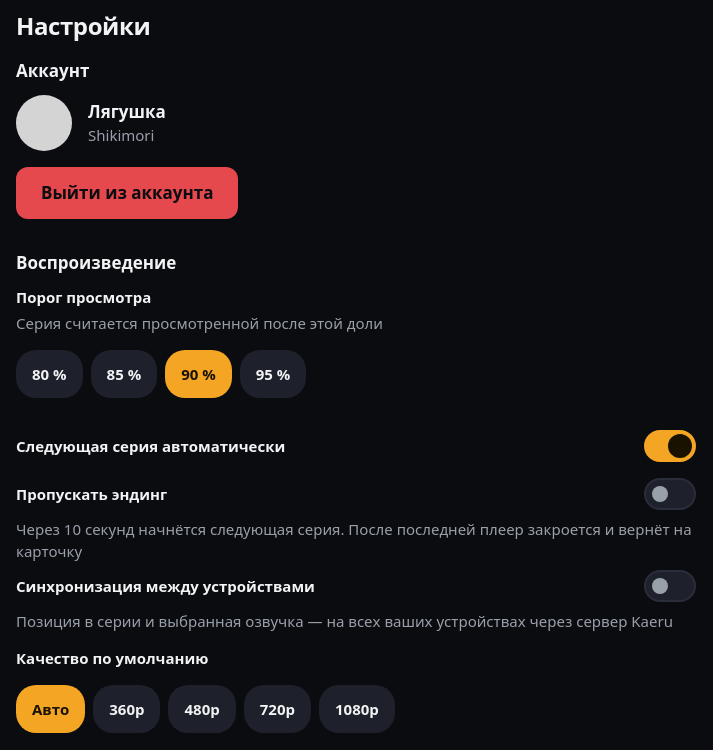
Scenario: SettingsScreen › offers the four thresholds as percentages and keeps the choice
This screenshot has width=713, height=750.
Expected: the radio button labelled "90 %" is checked, x1=165 y1=350 x2=232 y2=398
What coordinates should you click on to do the following:
click the radio button labelled "95 %"
I would click on:
 (273, 374)
Its box is x1=240 y1=350 x2=306 y2=398.
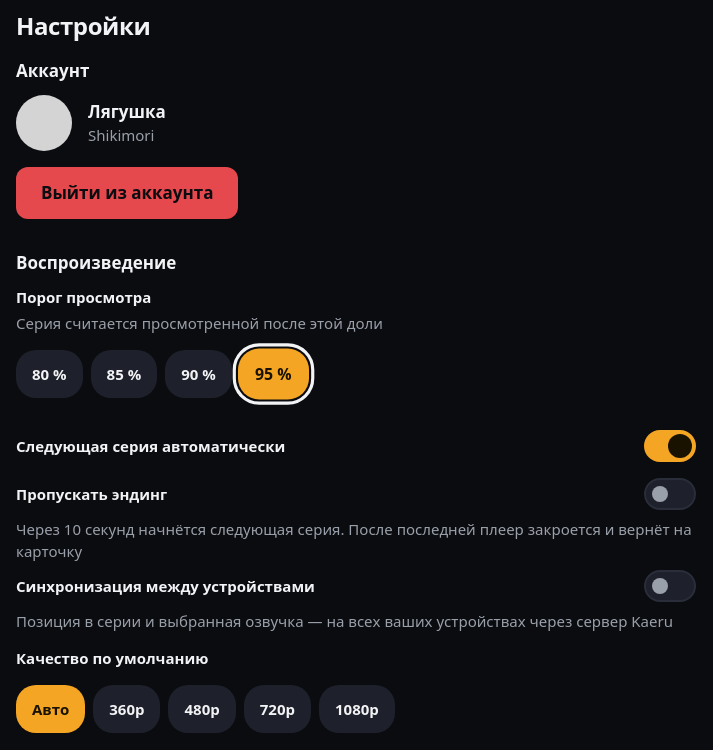
Expected: the radio button labelled "95 %" is checked, x1=238 y1=349 x2=308 y2=400
Expected: the radio button labelled "90 %" is not checked, x1=165 y1=350 x2=232 y2=398
